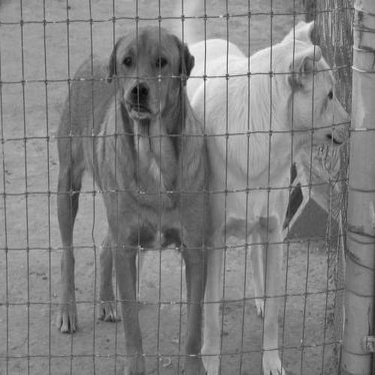dog: (172, 15, 354, 373), (39, 17, 219, 373)
